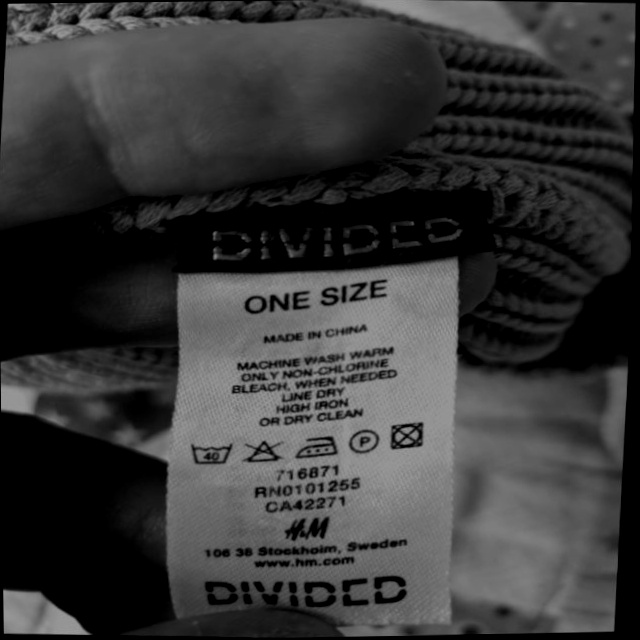40C: (189, 434, 236, 469)
DN_bleach: (244, 434, 286, 466)
DN_tumble_dry: (387, 416, 427, 451)
dry_clean_any_solvent_except_trichloroethylene: (348, 426, 380, 455)
iron_high: (297, 433, 340, 459)
